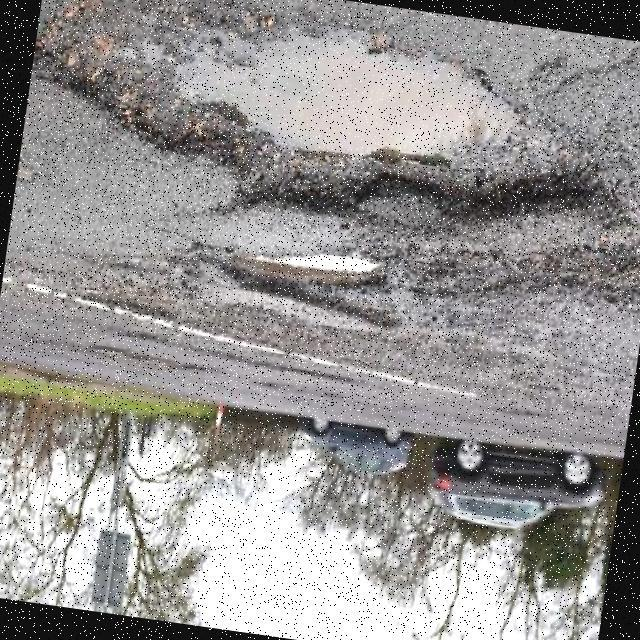Pothole: (33, 0, 621, 223), (229, 253, 399, 328)
